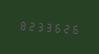eight: (17, 17, 25, 32)
six: (71, 21, 79, 36), (53, 20, 61, 34)
three: (44, 19, 52, 34), (35, 19, 43, 33)
two: (62, 20, 70, 35), (26, 18, 34, 32)
